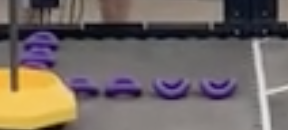ring: (105, 76, 142, 98), (152, 78, 191, 98), (200, 78, 238, 98), (23, 31, 59, 50), (20, 46, 55, 65), (68, 76, 100, 96)
